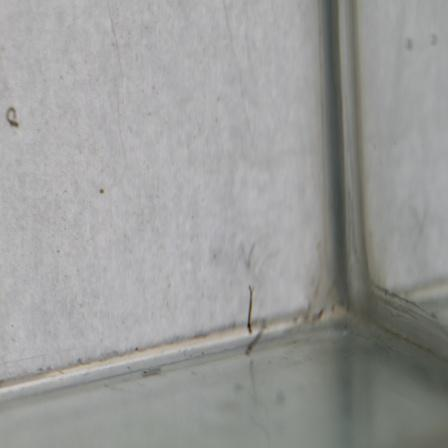Jentik-Nyamuk: (241, 280, 270, 358), (3, 103, 21, 131)
